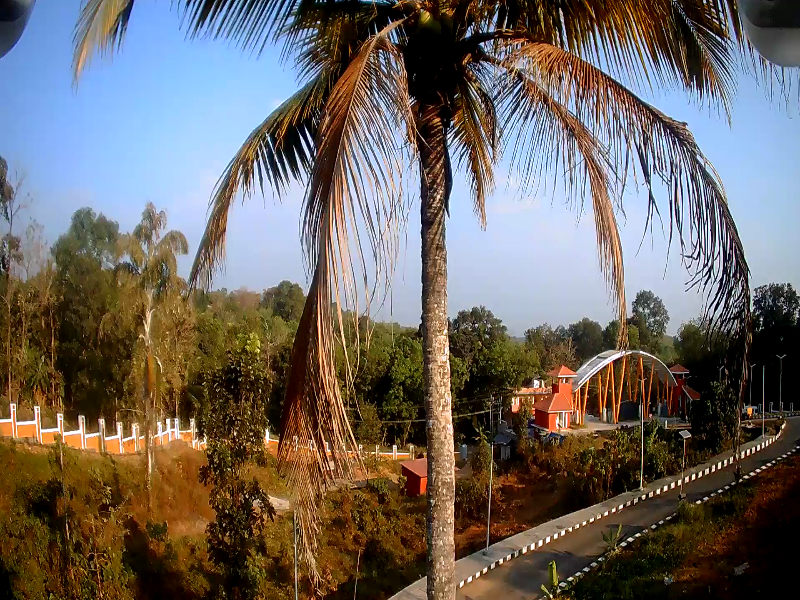coconut: (416, 11, 434, 29)
